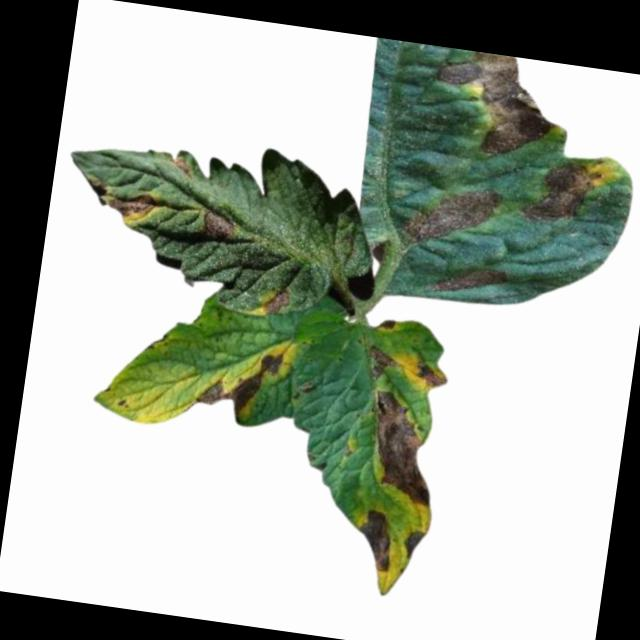Early_blight: (428, 47, 566, 161), (362, 388, 449, 506), (402, 176, 507, 253), (195, 340, 286, 423), (520, 151, 600, 229), (428, 256, 512, 302), (353, 504, 398, 573), (105, 183, 161, 226), (199, 207, 240, 242), (261, 282, 296, 317), (365, 343, 397, 381), (417, 359, 450, 388), (401, 528, 427, 561), (172, 153, 196, 175), (379, 315, 396, 331)
